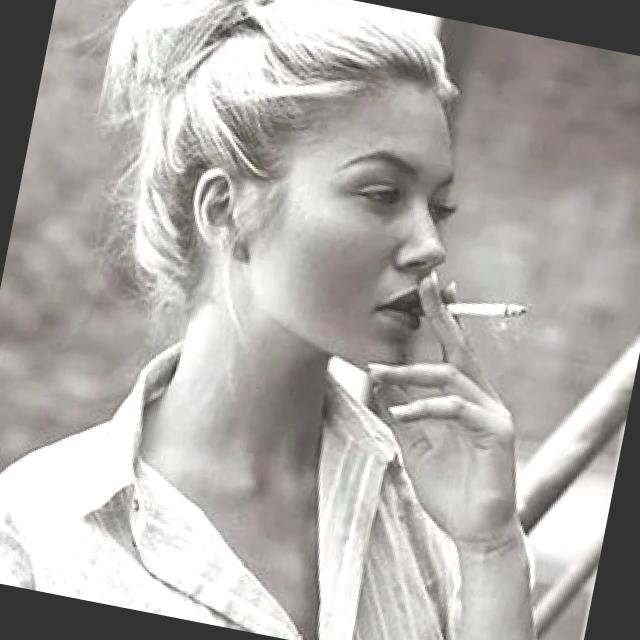cigarette: (433, 282, 534, 334)
